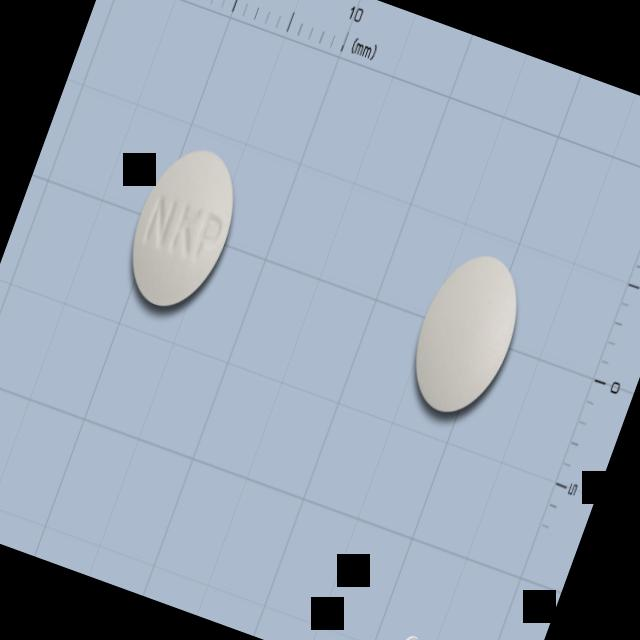Lefoxacin: (113, 136, 253, 322)
